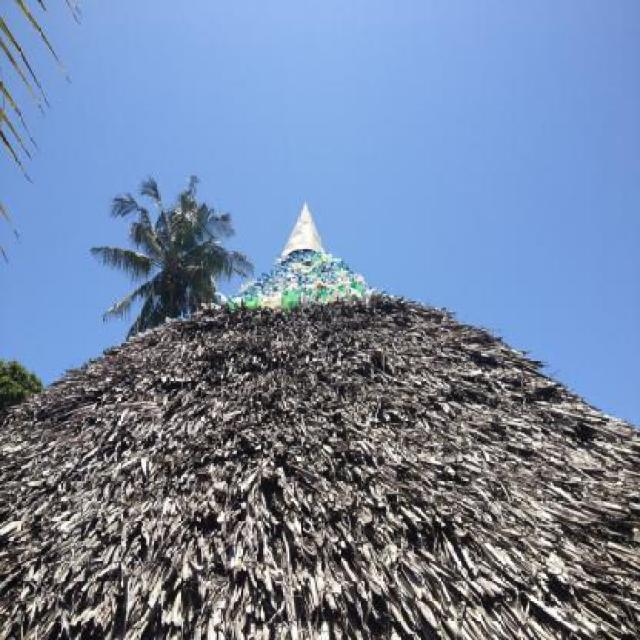Coconut: (154, 264, 180, 304)
